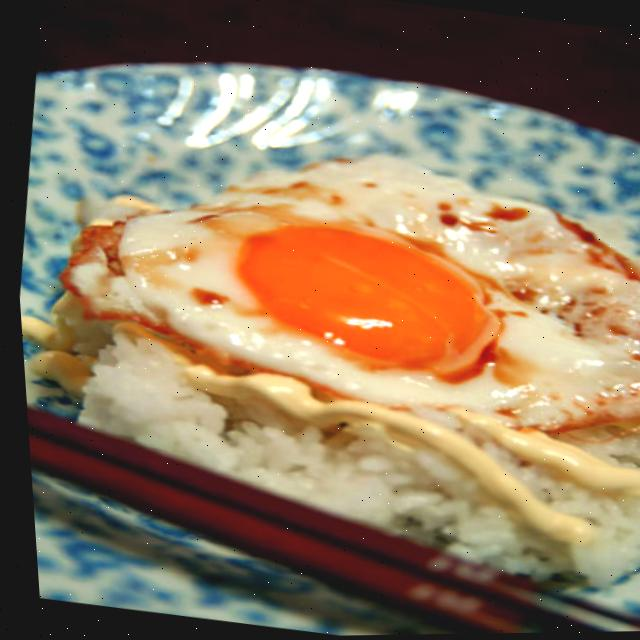鸡蛋料理: (49, 108, 640, 436)
